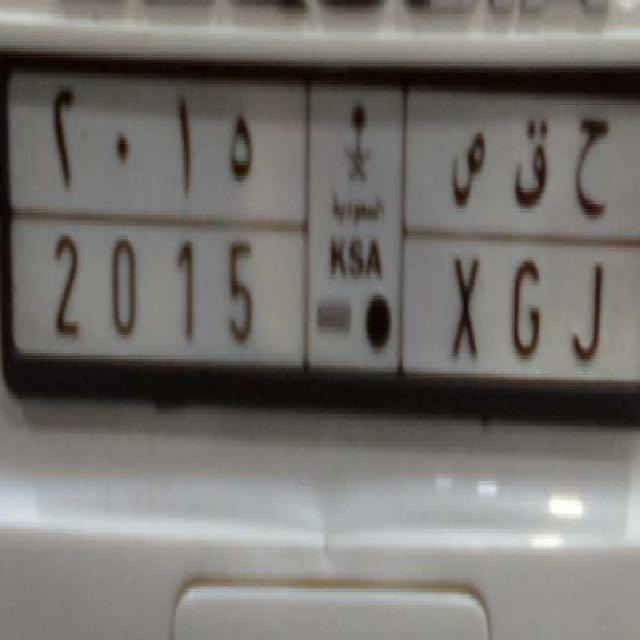license_plate: (28, 208, 632, 395)
